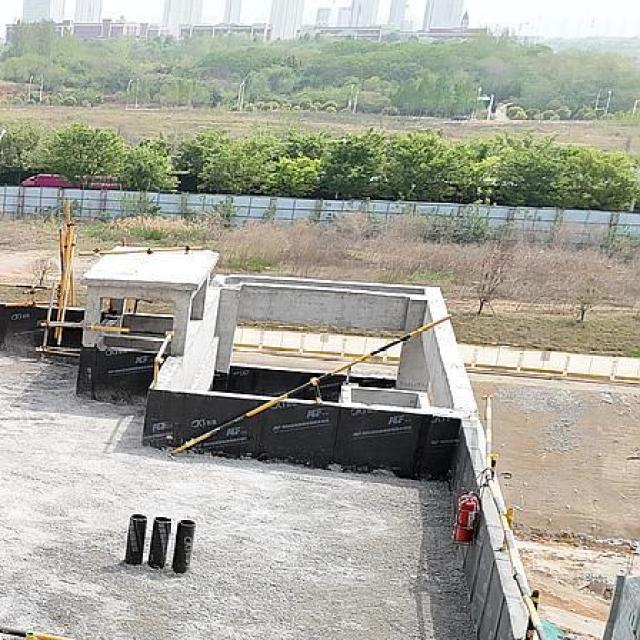edge_guardrail: (170, 313, 454, 456), (485, 394, 548, 640), (90, 324, 176, 389), (0, 282, 57, 307)
